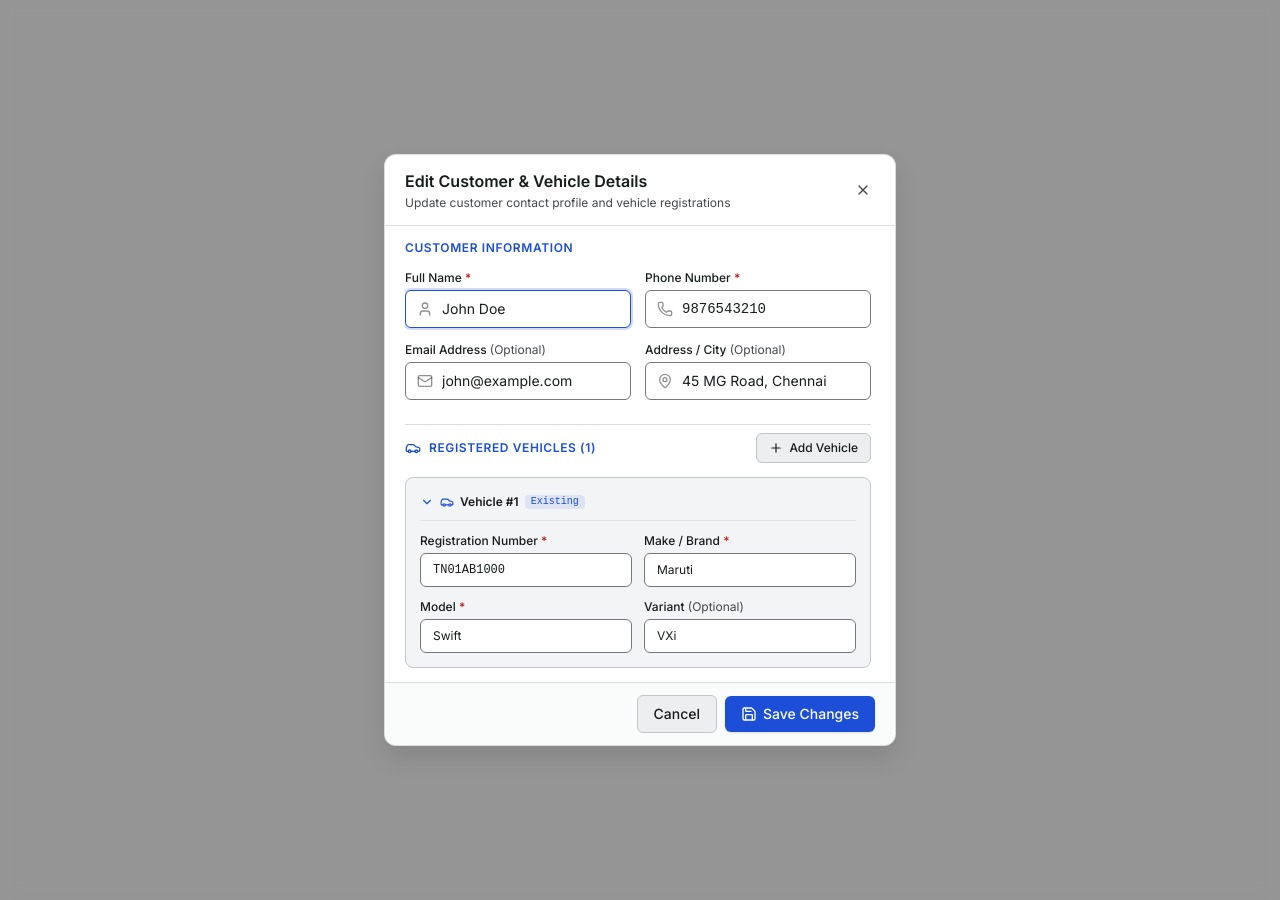
Test: EditCustomerModal Component & Vehicle Uniqueness › validates incomplete vehicle entries before submitting
Expected: the field showing "TN01AB1000" below "Registration Number" is shown, [420, 553, 632, 587]
// Add empty vehicle row
Click the button "Add Vehicle".
click(814, 448)  # box [756, 433, 871, 463]
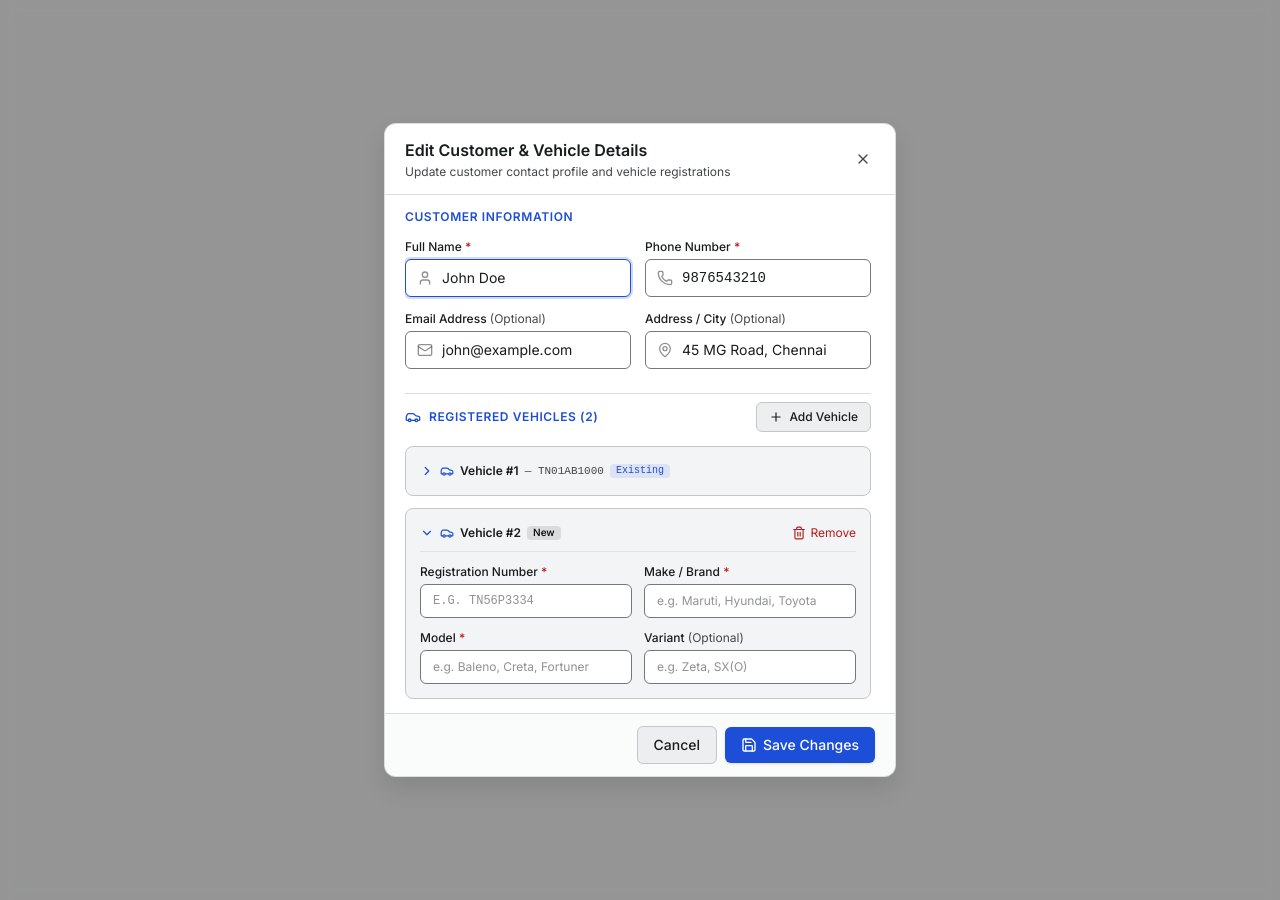
// Type make and model but omit registration number
Type "Toyota" into the field with placeholder "e.g. Maruti, Hyundai, Toyota".
click(750, 601); type("Toyota")  # box [644, 584, 856, 618]
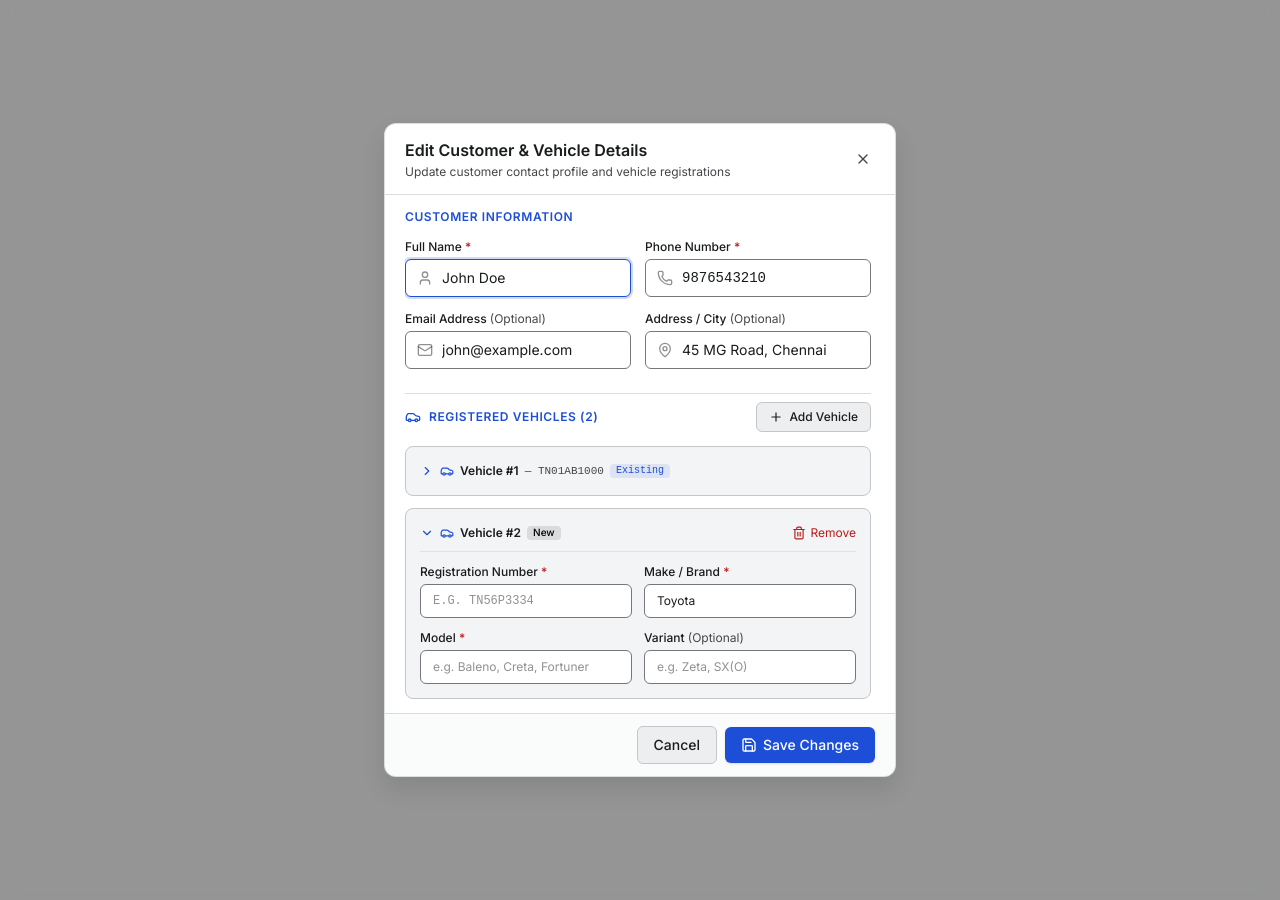
Click the button "Save Changes".
click(800, 745)  # box [725, 727, 875, 763]
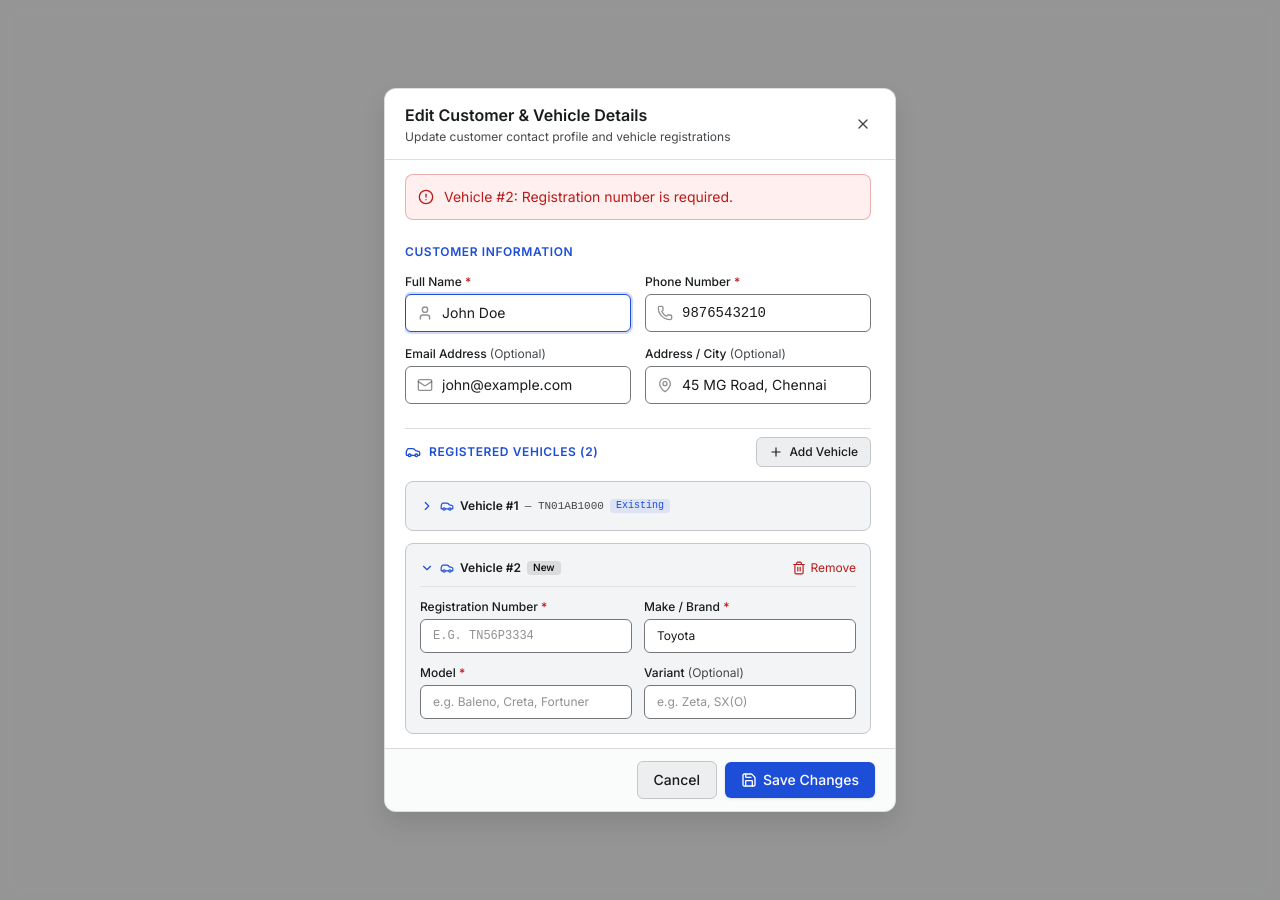
Expected: the text "Vehicle #2: Registration number is required." is shown, [444, 187, 733, 207]
